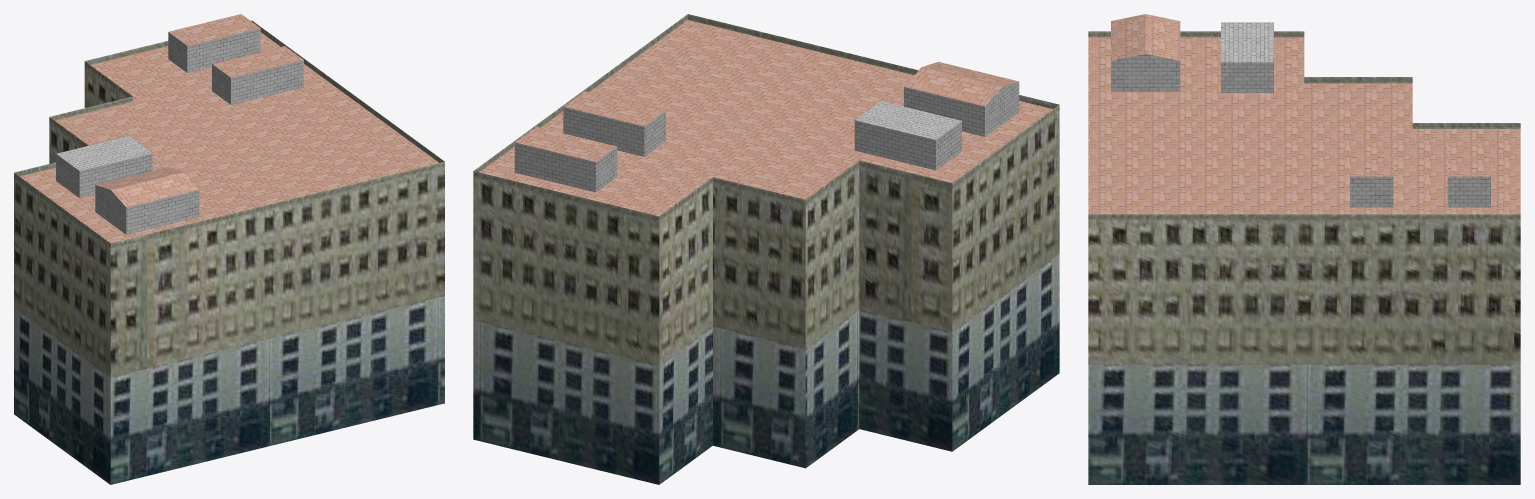
The picture shows the model from 3 angles, left to right: view 1: azimuth 30°, elevation 25°; view 2: azimuth 150°, elevation 25°; view 3: azimuth 270°, elevation 25°; orthographic projection. The views are drawn at different scales.
Visible parts, largest first — view 1: Object_5, Object_4, Object_3, Object_6, Object_1, Object_11, Object_9, Object_2, Object_8, Object_7, Object_10, Object_12; view 2: Object_5, Object_4, Object_3, Object_6, Object_8, Object_9, Object_1, Object_11, Object_2, Object_7, Object_12, Object_10; view 3: Object_5, Object_4, Object_3, Object_6, Object_2, Object_1, Object_7, Object_12, Object_10, Object_8, Object_11, Object_9.
Boxes of the visible parts, x1,y1,x2,y2 form: Object_5: [14, 20, 444, 377]; Object_4: [14, 296, 444, 484]; Object_3: [20, 32, 438, 243]; Object_6: [14, 20, 444, 248]; Object_1: [95, 185, 199, 234]; Object_11: [212, 60, 303, 104]; Object_9: [168, 28, 260, 72]; Object_2: [96, 167, 198, 207]; Object_8: [56, 153, 152, 198]; Object_7: [56, 136, 152, 170]; Object_10: [168, 14, 259, 45]; Object_12: [212, 46, 303, 77]; Object_5: [473, 14, 1059, 365]; Object_4: [473, 254, 1059, 484]; Object_3: [480, 20, 1052, 216]; Object_6: [473, 14, 1059, 222]; Object_8: [854, 120, 961, 170]; Object_9: [514, 142, 617, 192]; Object_1: [904, 82, 1019, 136]; Object_11: [563, 107, 665, 156]; Object_2: [904, 61, 1018, 106]; Object_7: [855, 101, 961, 139]; Object_12: [563, 91, 665, 126]; Object_10: [515, 126, 616, 161]; Object_5: [1088, 31, 1520, 364]; Object_4: [1088, 364, 1520, 484]; Object_3: [1088, 37, 1520, 214]; Object_6: [1088, 31, 1520, 220]; Object_2: [1111, 14, 1180, 60]; Object_1: [1111, 54, 1180, 91]; Object_7: [1221, 22, 1273, 62]; Object_12: [1350, 136, 1393, 176]; Object_10: [1447, 136, 1490, 176]; Object_8: [1221, 62, 1273, 92]; Object_11: [1350, 176, 1393, 207]; Object_9: [1447, 176, 1490, 207].
Bounding box in the file's own units: 1283 × 1283 × 989.
12 materials, 12 textured.
